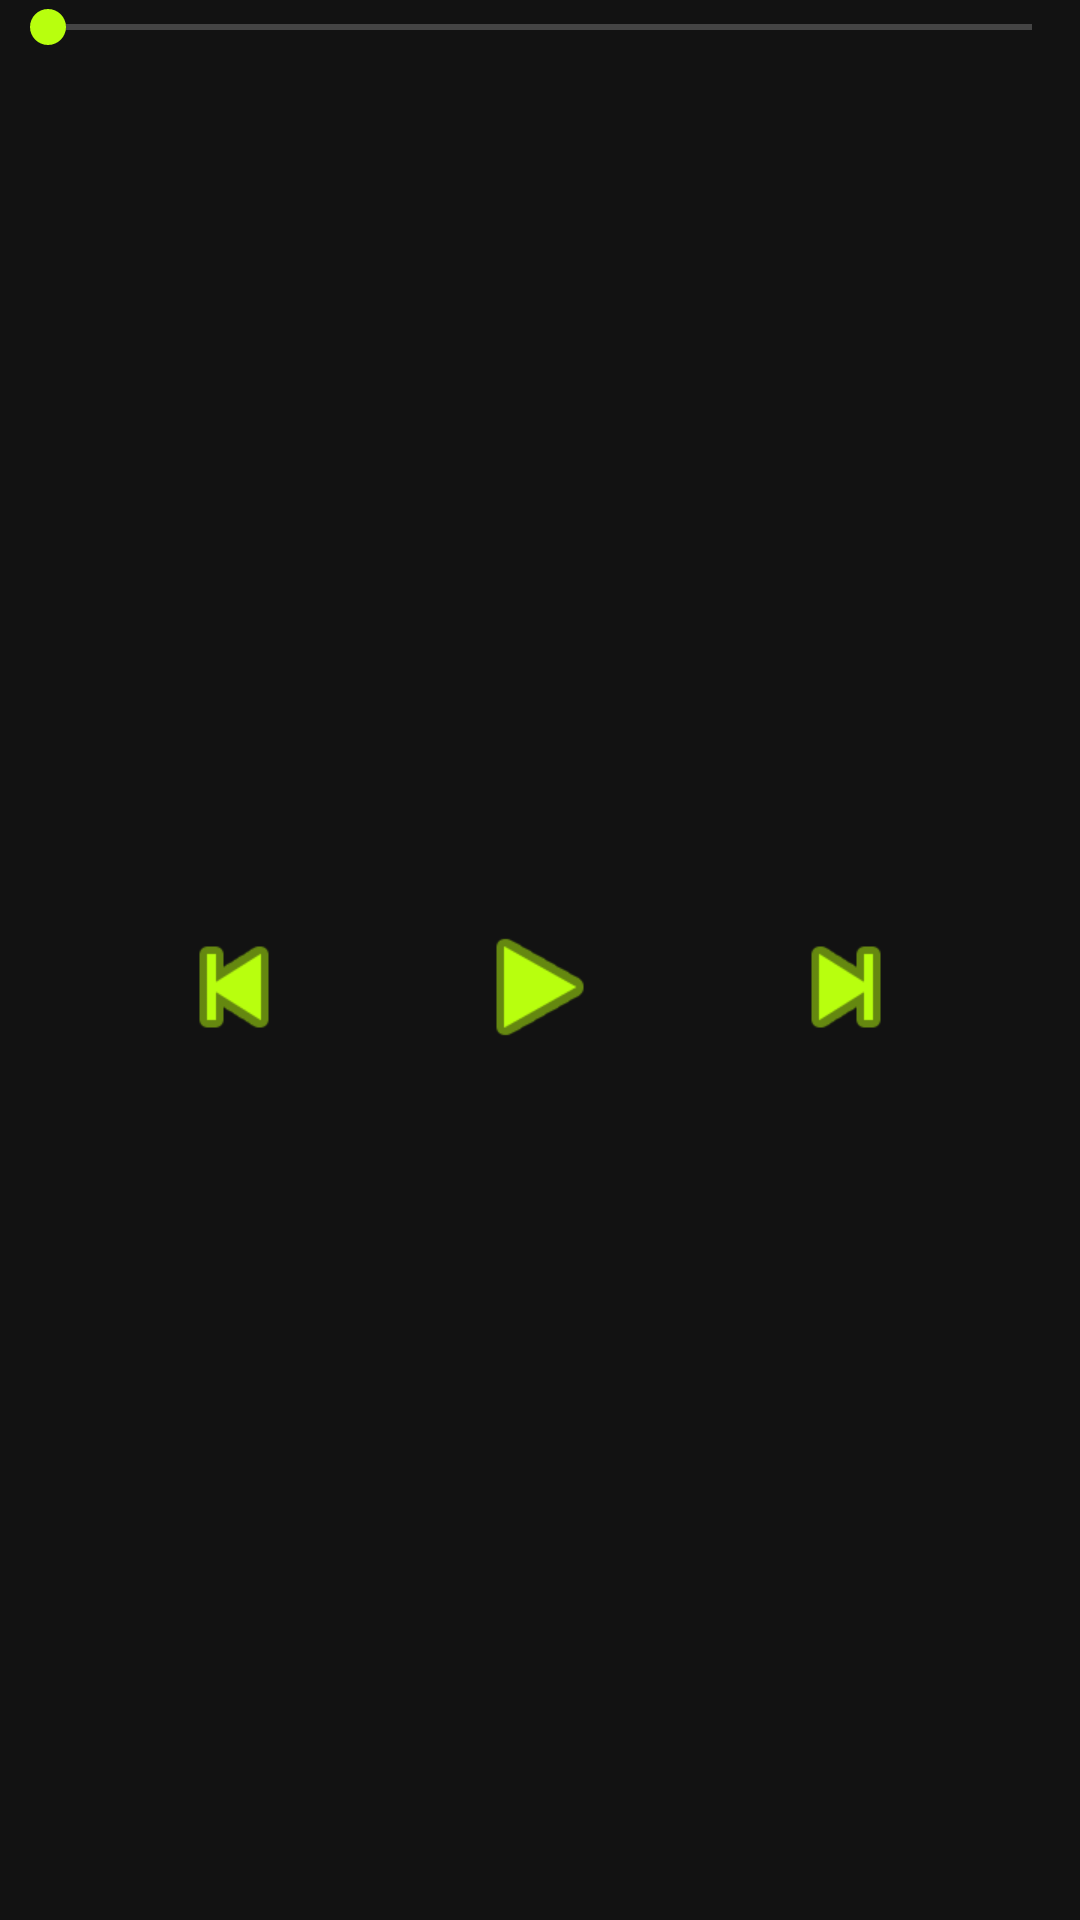

Screen size 1080x1920. Icon name, then its box in pixels as (x1, y1, x2, y2):
next: (811, 946, 881, 1028)
play: (496, 939, 584, 1035)
previous: (199, 946, 269, 1028)
